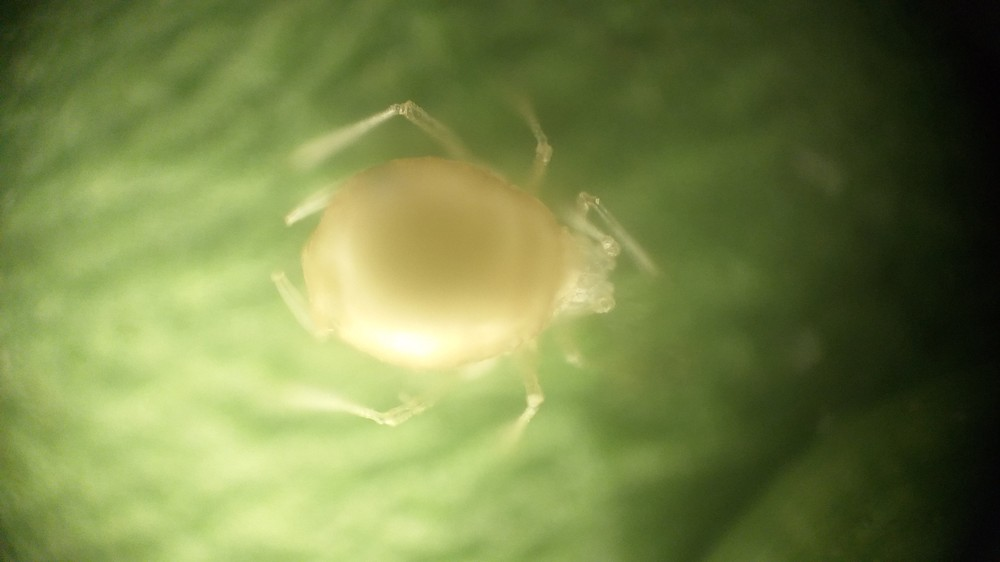Pulgon: (231, 68, 683, 488)
